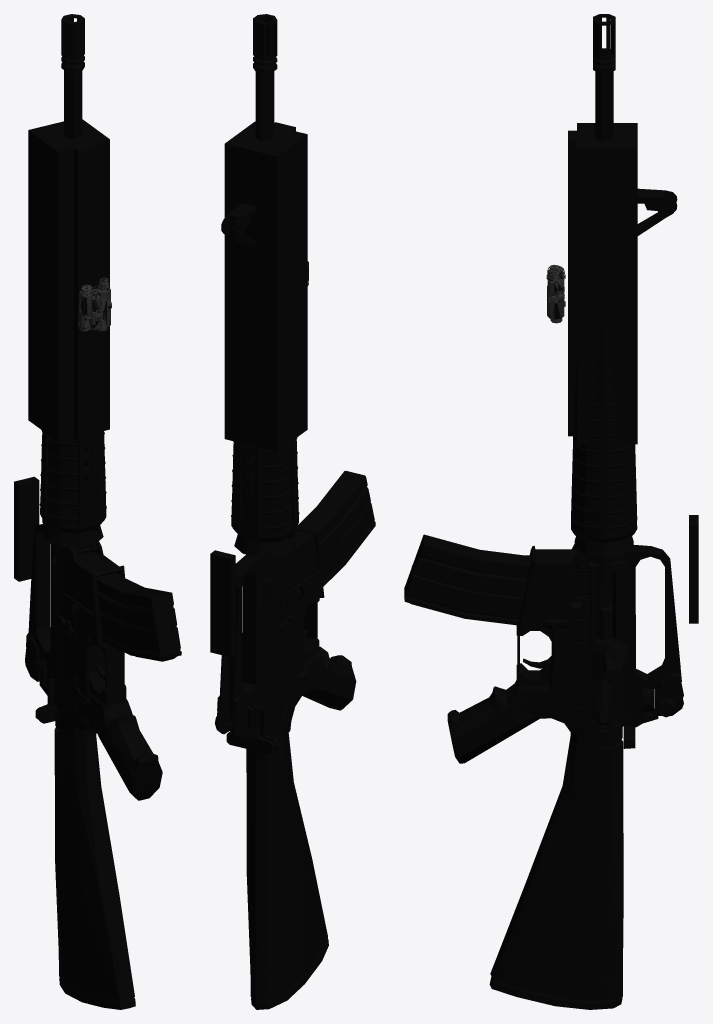
The model's file is M16A2__Handguard_AR_Quad__Laser_Pistol__Mount_AR_CarryHandle.fbx.
3 views of the same model, side by side, from view 1: azimuth 30°, elevation 25°; view 2: azimuth 150°, elevation 25°; view 3: azimuth 270°, elevation 25° (orthographic).
Parts seen in each view (by area): view 1: asset_M16A2.001; view 2: asset_M16A2.001; view 3: asset_M16A2.001.
Boxes of the visible parts, x1,y1,x2,y2 form: asset_M16A2.001: [14, 14, 181, 1009]; asset_M16A2.001: [210, 14, 375, 1009]; asset_M16A2.001: [404, 14, 698, 1009].
Bounding box in the file's own units: 0.0384 × 0.6 × 0.1624.
